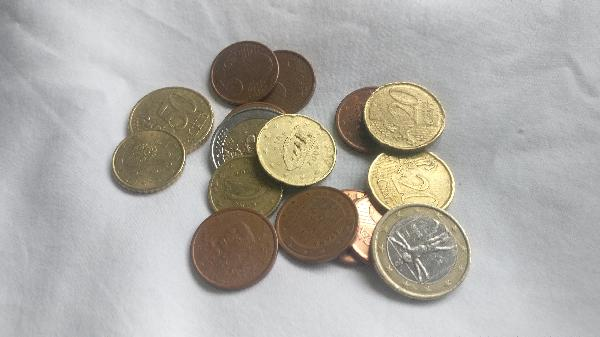Fifty Cent: (126, 81, 213, 151)
Five Cent: (191, 212, 284, 294), (279, 190, 356, 265), (240, 54, 322, 115), (206, 43, 282, 103), (333, 84, 393, 153)
One Euro: (372, 205, 472, 297)
Ten Cent: (112, 130, 189, 192), (207, 160, 284, 217)
Twenty Cent: (364, 79, 447, 150), (252, 113, 337, 182), (369, 145, 456, 209)
Two Euro: (208, 104, 284, 174)
